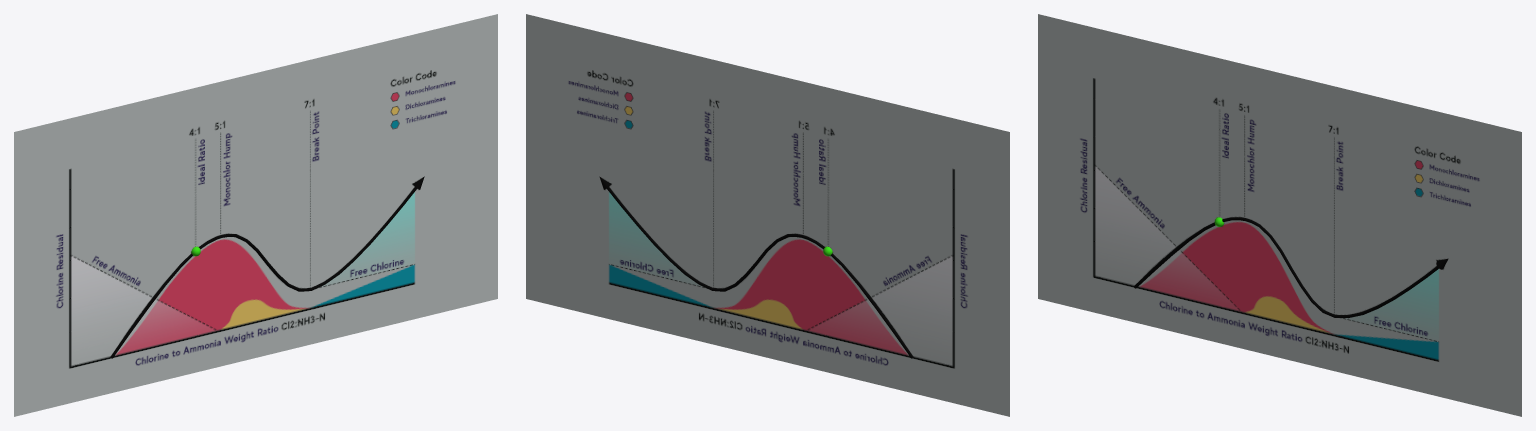
The model's file is BreakPointGraph.FBX.
3 views of the same model, side by side, from view 1: azimuth 30°, elevation 25°; view 2: azimuth 150°, elevation 25°; view 3: azimuth 330°, elevation 25° (orthographic).
Parts seen in each view (by area): view 1: SplashArt, LineGraph; view 2: SplashArt, LineGraph; view 3: SplashArt, LineGraph.
Part boxes in pixels (x1,y1,x2,y2): SplashArt: [14, 14, 497, 416]; LineGraph: [110, 186, 417, 358]; SplashArt: [526, 14, 1009, 416]; LineGraph: [606, 186, 913, 358]; SplashArt: [1038, 14, 1521, 416]; LineGraph: [1134, 217, 1438, 318].
Bounding box in the file's own units: 2560 × 1440 × 46.69.
Materials: 3 (1 with a texture image).
